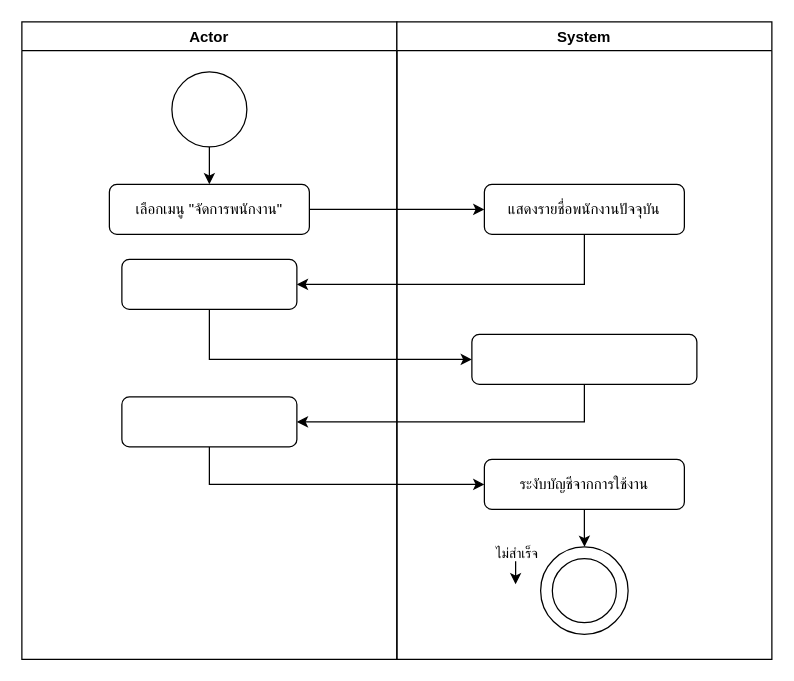
Some shapes in this 794 by 681 pixel diagram are drawn without their labels. The shapes that lost their labels are listed below. From the top down, each one's centre as x and y in pixels, then its label:
the point at 209,283: กดปุ่ม "ระงับการใช้งาน"
the point at 584,358: ขึ้นแสดงปุ่ม "ยืนยันระงับ" และ "ยกเลิก"
the point at 209,421: กดปุ่ม "ยืนยันระงับ"
